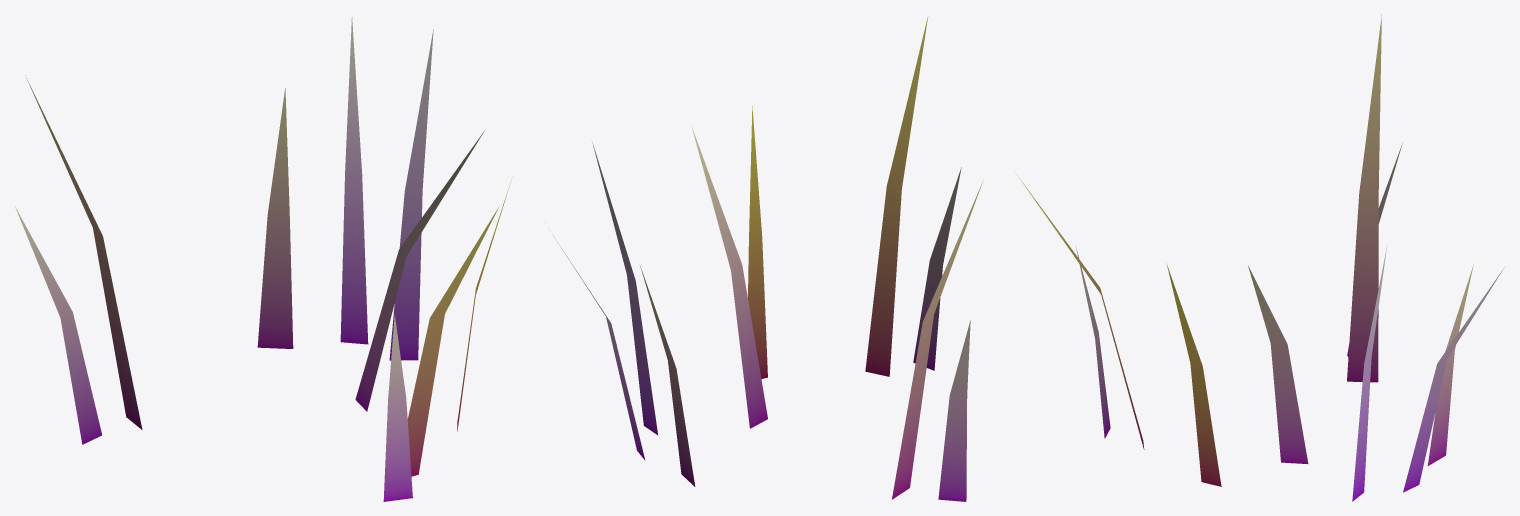
The model's file is grass_clump_lite.glb.
3 views of the same model, side by side, from view 1: azimuth 30°, elevation 25°; view 2: azimuth 150°, elevation 25°; view 3: azimuth 270°, elevation 25° (orthographic). The views are drawn at different scales.
Visible parts, largest first — view 1: grass_clump_lite; view 2: grass_clump_lite; view 3: grass_clump_lite.
Part boxes in pixels (x1=…): grass_clump_lite: x1=15, y1=17, x2=510, y2=501; grass_clump_lite: x1=552, y1=16, x2=983, y2=501; grass_clump_lite: x1=1016, y1=14, x2=1504, y2=501.
Bounding box in the file's own units: 0.2244 × 0.1908 × 0.2622.
